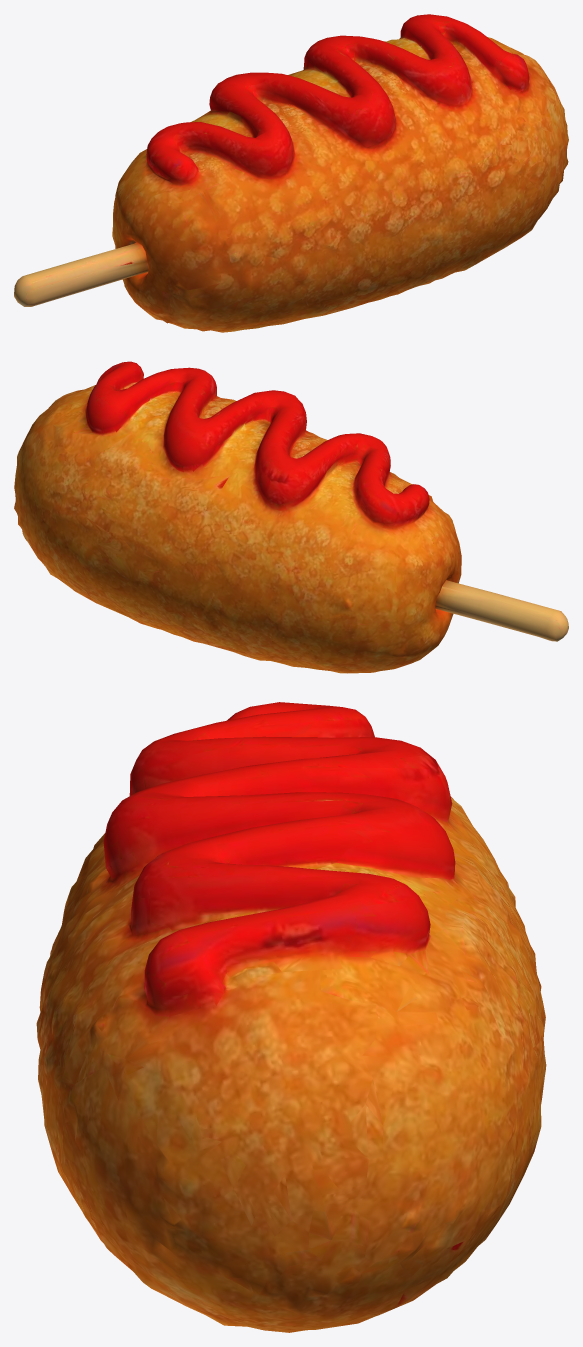
3 views of the same model, one above another, from view 1: azimuth 30°, elevation 25°; view 2: azimuth 150°, elevation 25°; view 3: azimuth 270°, elevation 25° (orthographic). The views are drawn at different scales.
Visible parts, largest first — view 1: hotdog; view 2: hotdog; view 3: hotdog.
Boxes of the visible parts, x1,y1,x2,y2 form: hotdog: (14, 14, 568, 332); hotdog: (14, 361, 568, 673); hotdog: (36, 702, 546, 1332).
Bounding box in the file's own units: 0.22 × 0.0935 × 0.0913.
1 material, 1 textured.
